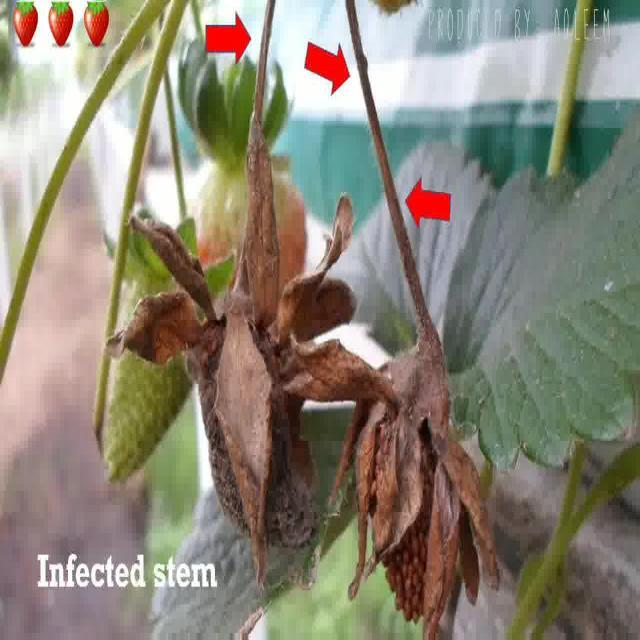Mancha negra Antracnosis: (191, 308, 318, 562), (360, 390, 475, 634)
